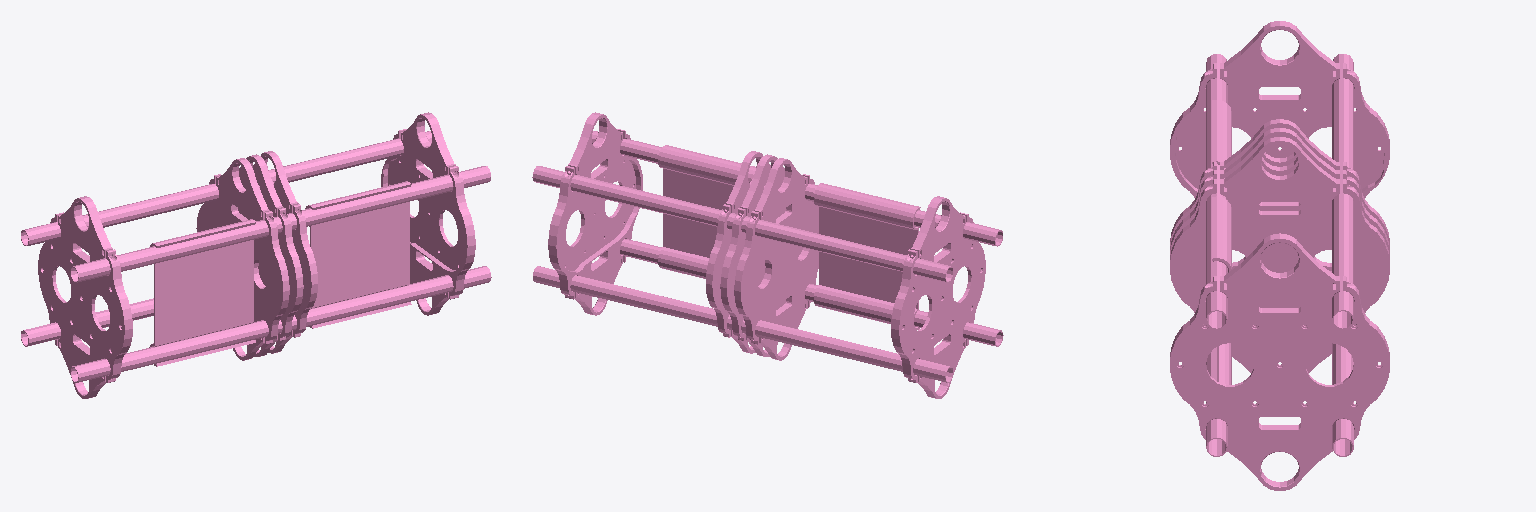
The robot description file, URDF, robot "quadbot":
<!-- <?xml version="1.0" encoding="utf-8"?> -->
<!-- This URDF was automatically created by SolidWorks to URDF Exporter! Originally created by [author] ([email redacted]) 
     Commit Version: 1.6.0-4-g7f85cfe  Build Version: 1.6.7995.38578
     For more information, please see http://wiki.ros.org/sw_urdf_exporter -->
<robot
  name="quadbot">
  <!-- <link name="dummy"></link>
  <joint name="dummy" type="fixed">
    <parent link="dummy"></parent>
    <child link="base_link"></child>
  </joint> -->
  <link
    name="base_link">
    <inertial>
      <origin
        xyz="-0.00387120244352494 0.18652191683355 -6.56418141173892E-16"
        rpy="0 0 0" />
      <mass
        value="0.996322261989855" />
      <inertia
        ixx="0.00378711359510183"
        ixy="-8.34892270163617E-16"
        ixz="-2.92467752920497E-19"
        iyy="0.00467886630089355"
        iyz="-1.452 89130392194E-10"
        izz="0.00381803359998961" />
    </inertial>
    <visual>
      <origin
        xyz="0 0 0"
        rpy="0 0 0" />
      <geometry>
        <mesh
          filename="../meshes/base_link.STL" />
      </geometry>
      <material
        name="">
        <color
          rgba="1 0.670588235294118 0.870588235294118 1" />
      </material>
    </visual>
    <collision>
      <origin
        xyz="0 0 0"
        rpy="0 0 0" />
      <geometry>
        <mesh
          filename="../meshes/base_link.STL" />
      </geometry>
    </collision>
  </link>
  <link
    name="fr_link_0">
    <inertial>
      <origin
        xyz="0.000249312673537311 0.00191000474553339 0.0925044160531216"
        rpy="0 0 0" />
      <mass
        value="0.0926222295025173" />
      <inertia
        ixx="0.000110493021443021"
        ixy="1.62568120461394E-13"
        ixz="1.77743214581187E-06"
        iyy="0.000154826458282934"
        iyz="1.2041229470706E-21"
        izz="5.17548231086632E-05" />
    </inertial>
    <visual>
      <origin
        xyz="0 0 0"
        rpy="0 1.5708 0" />
      <geometry>
        <mesh
          filename="../meshes/fr_link_0.STL" />
      </geometry>
      <material
        name="">
        <color
          rgba="1 0.670588235294118 0.870588235294118 1" />
      </material>
    </visual>
    <collision>
      <origin
        xyz="0 0 0"
        rpy="0 1.5708 0" />
      <geometry>
        <mesh
          filename="../meshes/fr_link_0.STL" />
      </geometry>
    </collision>
  </link>
  <joint
    name="fr_jnt_0"
    type="revolute">
    <origin
      xyz="0.20229 0.19155 0.095"
      rpy="-1.5708 -0.0068295 1.5708" />
    <parent
      link="base_link" />
    <child
      link="fr_link_0" />
    <axis
      xyz="0 0 -1" />
    <limit
      lower="0"
      upper="0"
      effort="0"
      velocity="0" />
  </joint>
  <!-- <link
    name="fr_link_1">
    <inertial>
      <origin
        xyz="0.0291578714897264 5.55111512312578E-17 0.00211960462454606"
        rpy="0 0 0" />
      <mass
        value="0.0209412067295075" />
      <inertia
        ixx="9.42722406410458E-07"
        ixy="8.45792176335471E-23"
        ixz="1.54265002106541E-07"
        iyy="1.14710057680368E-05"
        iyz="-8.9335506155727E-23"
        izz="1.22072933903446E-05" />
    </inertial>
    <visual>
      <origin
        xyz="0 0 0"
        rpy="0 0 0" />
      <geometry>
        <mesh
          filename="../meshes/fr_link_1.STL" />
      </geometry>
      <material
        name="">
        <color
          rgba="0.627450980392157 0.627450980392157 0.627450980392157 1" />
      </material>
    </visual>
    <collision>
      <origin
        xyz="0 0 0"
        rpy="0 0 0" />
      <geometry>
        <mesh
          filename="../meshes/fr_link_1.STL" />
      </geometry>
    </collision>
  </link>
  <joint
    name="fr_jnt_1"
    type="revolute">
    <origin
      xyz="0 -0.02775 0.051896"
      rpy="1.5708 0.54739 3.1416" />
    <parent
      link="fr_link_0" />
    <child
      link="fr_link_1" />
    <axis
      xyz="0 0 -1" />
    <limit
      lower="0"
      upper="0"
      effort="0"
      velocity="0" />
  </joint>
  <link
    name="fr_link_2">
    <inertial>
      <origin
        xyz="0.100976765487836 -0.000248700705894042 0.00401165043991318"
        rpy="0 0 0" />
      <mass
        value="0.0364575808655264" />
      <inertia
        ixx="9.04626156802422E-07"
        ixy="-5.66699372868361E-08"
        ixz="-1.08482391390852E-08"
        iyy="5.5858116929233E-05"
        iyz="4.43520261553087E-11"
        izz="5.64901841043986E-05" />
    </inertial>
    <visual>
      <origin
        xyz="0 0 0"
        rpy="0 0 0" />
      <geometry>
        <mesh
          filename="../meshes/fr_link_2.STL" />
      </geometry>
      <material
        name="">
        <color
          rgba="0.627450980392157 0.627450980392157 0.627450980392157 1" />
      </material>
    </visual>
    <collision>
      <origin
        xyz="0 0 0"
        rpy="0 0 0" />
      <geometry>
        <mesh
          filename="../meshes/fr_link_2.STL" />
      </geometry>
    </collision>
  </link> -->
  <!-- <joint
    name="fr_jnt_2"
    type="revolute">
    <origin
      xyz="0.08 0 0.0015"
      rpy="0 0 1.1903" />
    <parent
      link="fr_link_1" />
    <child
      link="fr_link_2" />
    <axis
      xyz="0 0 1" />
    <limit
      lower="0"
      upper="0"
      effort="0"
      velocity="0" />
  </joint>
  <link
    name="fr_link_3">
    <inertial>
      <origin
        xyz="0.0658007969173512 0.000136237888315474 2.77555756156289E-17"
        rpy="0 0 0" />
      <mass
        value="0.0221842987960633" />
      <inertia
        ixx="5.34735340581067E-07"
        ixy="-1.46900586685684E-07"
        ixz="-4.6859781701129E-22"
        iyy="2.81354775768645E-05"
        iyz="9.26442286059391E-23"
        izz="2.85375296980227E-05" />
    </inertial>
    <visual>
      <origin
        xyz="0 0 0"
        rpy="0 0 0" />
      <geometry>
        <mesh
          filename="../meshes/fr_link_3.STL" />
      </geometry>
      <material
        name="">
        <color
          rgba="0.627450980392157 0.627450980392157 0.627450980392157 1" />
      </material>
    </visual>
    <collision>
      <origin
        xyz="0 0 0"
        rpy="0 0 0" />
      <geometry>
        <mesh
          filename="../meshes/fr_link_3.STL" />
      </geometry>
    </collision>
  </link> -->
  <!-- <joint
    name="fr_jnt_3"
    type="revolute">
    <origin
      xyz="0.1 0 0"
      rpy="-3.1416 0 1.5798" />
    <parent
      link="fr_link_2" />
    <child
      link="fr_link_3" />
    <axis
      xyz="0 0 -1" />
    <limit
      lower="0"
      upper="0"
      effort="0"
      velocity="0" />
  </joint> -->
  <!-- <link
    name="fr_link_4">
    <inertial>
      <origin
        xyz="0.0508421285102736 -6.93889390390723E-18 -0.00211960462454608"
        rpy="0 0 0" />
      <mass
        value="0.0209412067295075" />
      <inertia
        ixx="9.42722406410457E-07"
        ixy="2.23550730421284E-21"
        ixz="1.5426500210654E-07"
        iyy="1.14710057680368E-05"
        iyz="3.01093742969302E-22"
        izz="1.22072933903446E-05" />
    </inertial>
    <visual>
      <origin
        xyz="0 0 0"
        rpy="0 0 0" />
      <geometry>
        <mesh
          filename="../meshes/fr_link_4.STL" />
      </geometry>
      <material
        name="">
        <color
          rgba="0.627450980392157 0.627450980392157 0.627450980392157 1" />
      </material>
    </visual>
    <collision>
      <origin
        xyz="0 0 0"
        rpy="0 0 0" />
      <geometry>
        <mesh
          filename="../meshes/fr_link_4.STL" />
      </geometry>
    </collision>
  </link> -->
  <!-- <joint
    name="fr_jnt_4"
    type="revolute">
    <origin
      xyz="0.13 0 0.0015"
      rpy="0 0 -1.4376" />
    <parent
      link="fr_link_3" />
    <child
      link="fr_link_4" />
    <axis
      xyz="0 0 -1" />
    <limit
      lower="0"
      upper="0"
      effort="0"
      velocity="0" />
  </joint> -->
</robot>

--- Facts derived from the render (not from the file) ---
Views: 3 orthographic renders of the robot side by side, from view 1: azimuth 30°, elevation 25°; view 2: azimuth 150°, elevation 25°; view 3: azimuth 270°, elevation 25°.
Model quadbot with 2 links and 1 joints (1 revolute), rooted at base_link, posed every joint at zero.
Visible links, largest first — view 1: base_link; view 2: base_link; view 3: base_link.
Boxes of the visible links, x1,y1,x2,y2 form: base_link: (21,112,491,398); base_link: (532,112,1003,398); base_link: (1170,21,1389,490).
Bounding box of the posed robot: 0.5 × 0.182 × 0.23 m (x, y, z).
Meshes: 2 distinct files referenced, 1 mesh visuals loaded (1 binary STL); not drawn: 1 (reference not matched to a file when rendering).